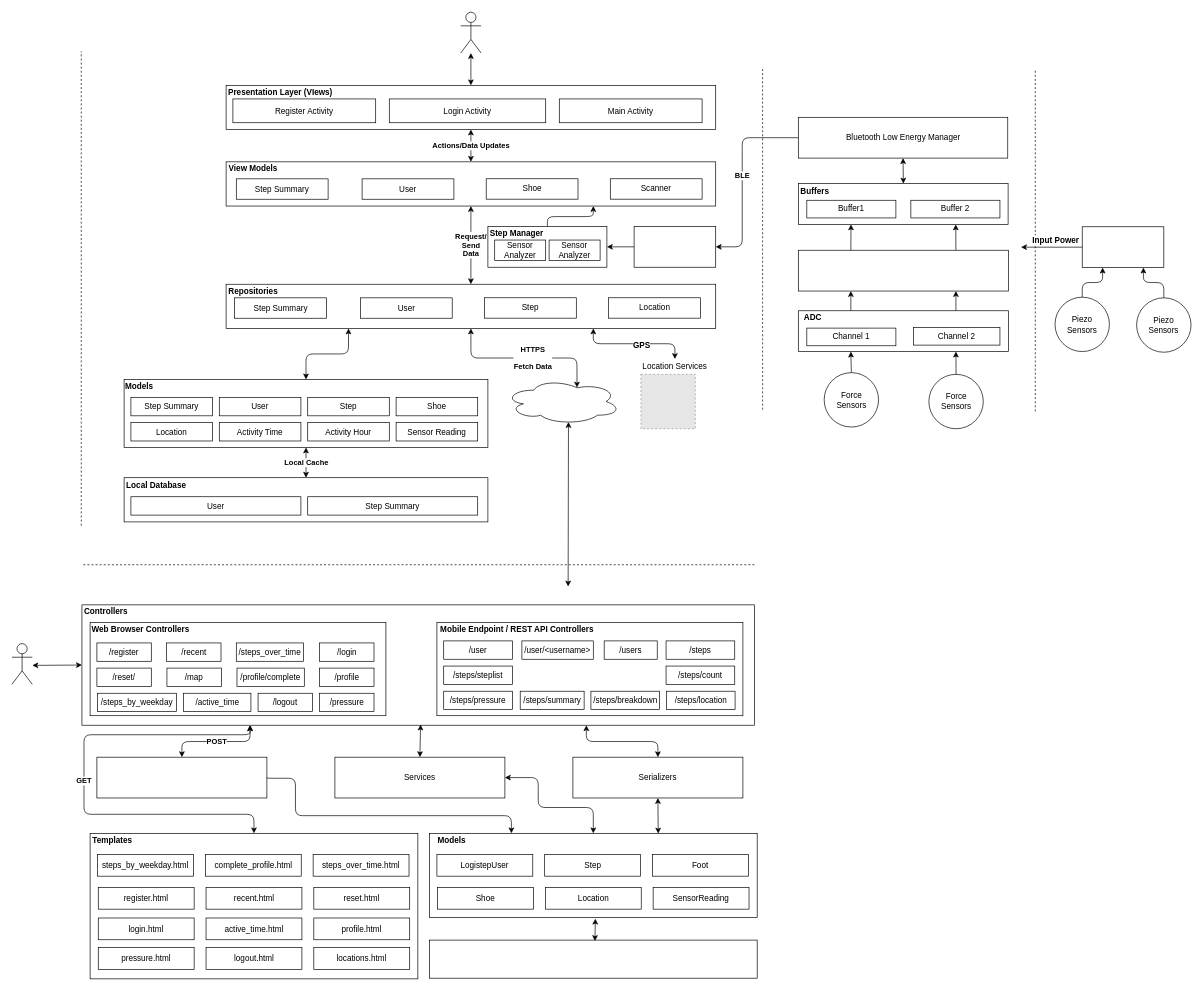
The diagram is 1203 pixels wide and 991 high, and some of its shapes have lost their labels. Grey dashed boxes stand in for pictures. The shapes that lost their labels are listed below. From the top down, each one's box as (x1, y1, x2, y2) in pixels, then its label:
(633, 226, 716, 267): Nordic Bluetooth Manager
(1082, 226, 1164, 268): Power Management System
(798, 250, 1008, 291): Exponential Average Filter
(504, 378, 620, 424): Web Server
(96, 756, 267, 798): Form Processing
(429, 939, 757, 978): Database
